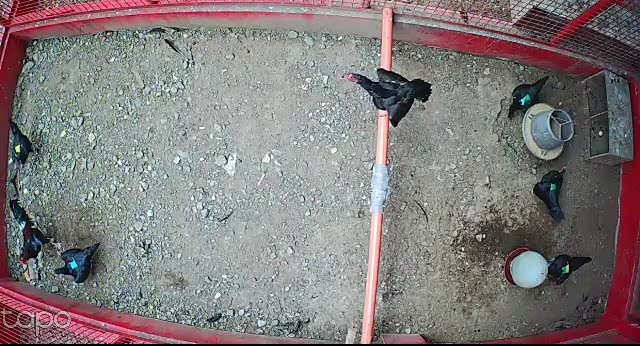Chicken: (336, 57, 433, 128), (528, 163, 569, 225), (2, 115, 47, 169), (507, 72, 551, 122), (52, 241, 99, 285), (543, 253, 592, 286)
Drinker: (503, 247, 548, 289)
Feeder: (523, 101, 575, 159)
Rooster: (4, 198, 62, 268)
Saddle_Color_Blue: (68, 255, 79, 271)
Saddle_Color_Bluegreen: (519, 93, 532, 106)
Saddle_Color_Green: (549, 181, 558, 189)
Saddle_Color_Yellow: (14, 144, 22, 154)
Saddle_Color_YellowGreen: (561, 261, 571, 274)
